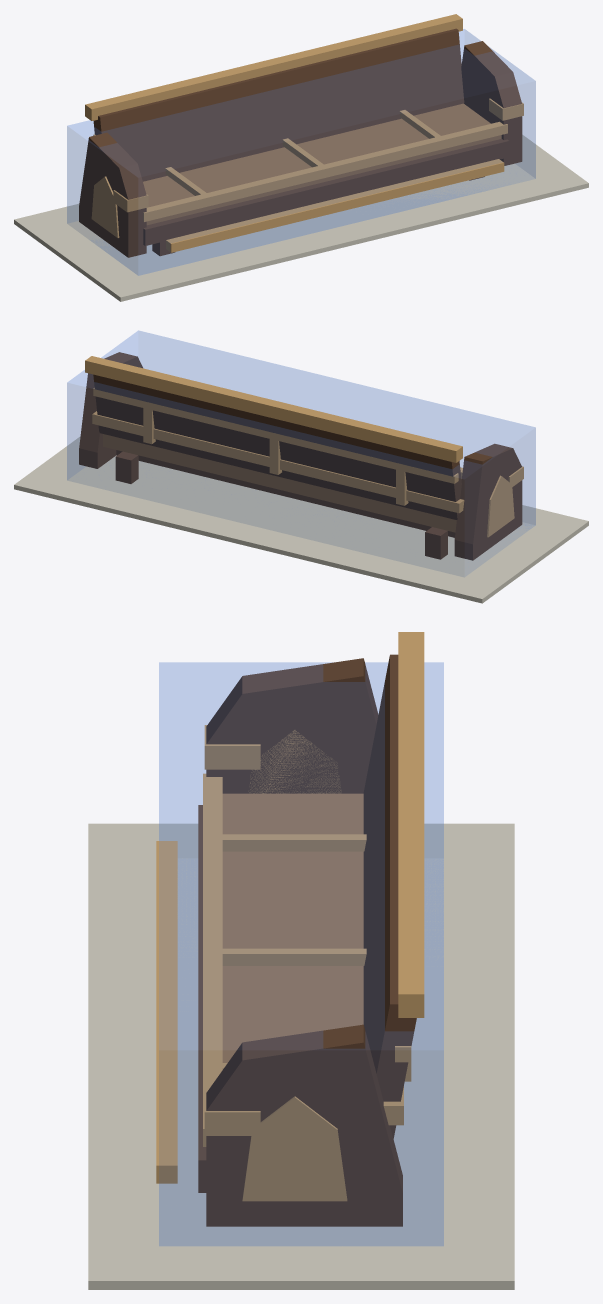
The model's file is cathedral_pew.glb.
3 renders of one model, top to bottom at view 1: azimuth 30°, elevation 25°; view 2: azimuth 150°, elevation 25°; view 3: azimuth 270°, elevation 25°, orthographic. The views are drawn at different scales.
Visible parts, largest first — view 1: COL_pew_footprint, VIS_pew_asset_reference_back, VIS_asset_floor_pad, VIS_pew_asset_reference_seat_base, VIS_pew_asset_reference_front_rail, VIS_pew_asset_reference_top_rail, VIS_pew_asset_reference_seat_front_lip, VIS_pew_asset_reference_kneeler_rail, VIS_pew_asset_reference_west_end_panel, VIS_pew_asset_reference_east_end_panel, VIS_pew_asset_reference_west_end_carved_inset, VIS_pew_asset_reference_west_end_trim (+4 smaller); view 2: COL_pew_footprint, VIS_asset_floor_pad, VIS_pew_asset_reference_back, VIS_pew_asset_reference_top_rail, VIS_pew_asset_reference_west_end_panel, VIS_pew_asset_reference_seat_base, VIS_pew_asset_reference_back_lower_rail, VIS_pew_asset_reference_back_mid_rail, VIS_pew_asset_reference_east_end_panel, VIS_pew_asset_reference_lower_stretcher, VIS_pew_asset_reference_west_end_carved_inset, VIS_pew_asset_reference_east_back_foot (+4 smaller); view 3: COL_pew_footprint, VIS_asset_floor_pad, VIS_pew_asset_reference_seat_base, VIS_pew_asset_reference_east_end_panel, VIS_pew_asset_reference_west_end_panel, VIS_pew_asset_reference_back, VIS_pew_asset_reference_top_rail, VIS_pew_asset_reference_east_end_carved_inset, VIS_pew_asset_reference_kneeler_rail, VIS_pew_asset_reference_seat_front_lip, VIS_pew_asset_reference_seat_plank_left, VIS_pew_asset_reference_seat_plank_center (+4 smaller).
Part boxes in pixels (<box>): COL_pew_footprint: <box>67,29,535,275</box>; VIS_pew_asset_reference_back: <box>93,28,464,181</box>; VIS_asset_floor_pad: <box>14,135,588,301</box>; VIS_pew_asset_reference_seat_base: <box>143,103,501,225</box>; VIS_pew_asset_reference_front_rail: <box>143,139,509,245</box>; VIS_pew_asset_reference_top_rail: <box>85,14,462,120</box>; VIS_pew_asset_reference_seat_front_lip: <box>143,121,507,221</box>; VIS_pew_asset_reference_kneeler_rail: <box>166,159,504,252</box>; VIS_pew_asset_reference_west_end_panel: <box>79,132,146,257</box>; VIS_pew_asset_reference_east_end_panel: <box>461,41,522,165</box>; VIS_pew_asset_reference_west_end_carved_inset: <box>91,176,119,237</box>; VIS_pew_asset_reference_west_end_trim: <box>113,190,148,212</box>; COL_pew_footprint: <box>67,330,535,576</box>; VIS_asset_floor_pad: <box>14,436,588,603</box>; VIS_pew_asset_reference_back: <box>93,374,461,519</box>; VIS_pew_asset_reference_top_rail: <box>85,356,462,462</box>; VIS_pew_asset_reference_west_end_panel: <box>454,443,522,560</box>; VIS_pew_asset_reference_seat_base: <box>103,434,456,532</box>; VIS_pew_asset_reference_back_lower_rail: <box>92,411,464,513</box>; VIS_pew_asset_reference_back_mid_rail: <box>93,388,458,483</box>; VIS_pew_asset_reference_east_end_panel: <box>79,352,142,468</box>; VIS_pew_asset_reference_lower_stretcher: <box>116,450,455,537</box>; VIS_pew_asset_reference_west_end_carved_inset: <box>487,475,514,537</box>; VIS_pew_asset_reference_east_back_foot: <box>115,451,138,483</box>; COL_pew_footprint: <box>159,662,443,1245</box>; VIS_asset_floor_pad: <box>88,823,514,1289</box>; VIS_pew_asset_reference_seat_base: <box>222,793,363,1062</box>; VIS_pew_asset_reference_east_end_panel: <box>206,1024,402,1226</box>; VIS_pew_asset_reference_west_end_panel: <box>206,658,378,793</box>; VIS_pew_asset_reference_back: <box>363,654,416,1139</box>; VIS_pew_asset_reference_top_rail: <box>398,632,424,1017</box>; VIS_pew_asset_reference_east_end_carved_inset: <box>242,1096,347,1201</box>; VIS_pew_asset_reference_kneeler_rail: <box>156,841,177,1183</box>; VIS_pew_asset_reference_seat_front_lip: <box>203,773,222,1146</box>; VIS_pew_asset_reference_seat_plank_left: <box>222,834,366,851</box>; VIS_pew_asset_reference_seat_plank_center: <box>222,948,366,965</box>.
Size of the model in its own units: 6.6 by 1.67 by 2.6.
